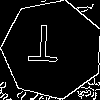T: (27, 24, 60, 71)
